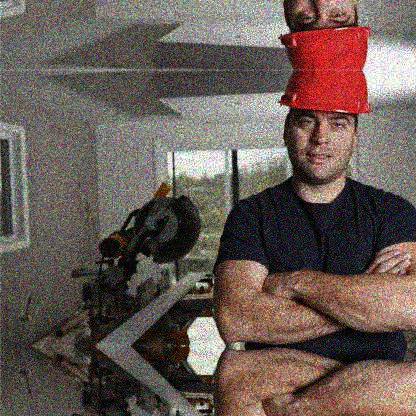helmet: (281, 70, 372, 185), (280, 1, 375, 71)
